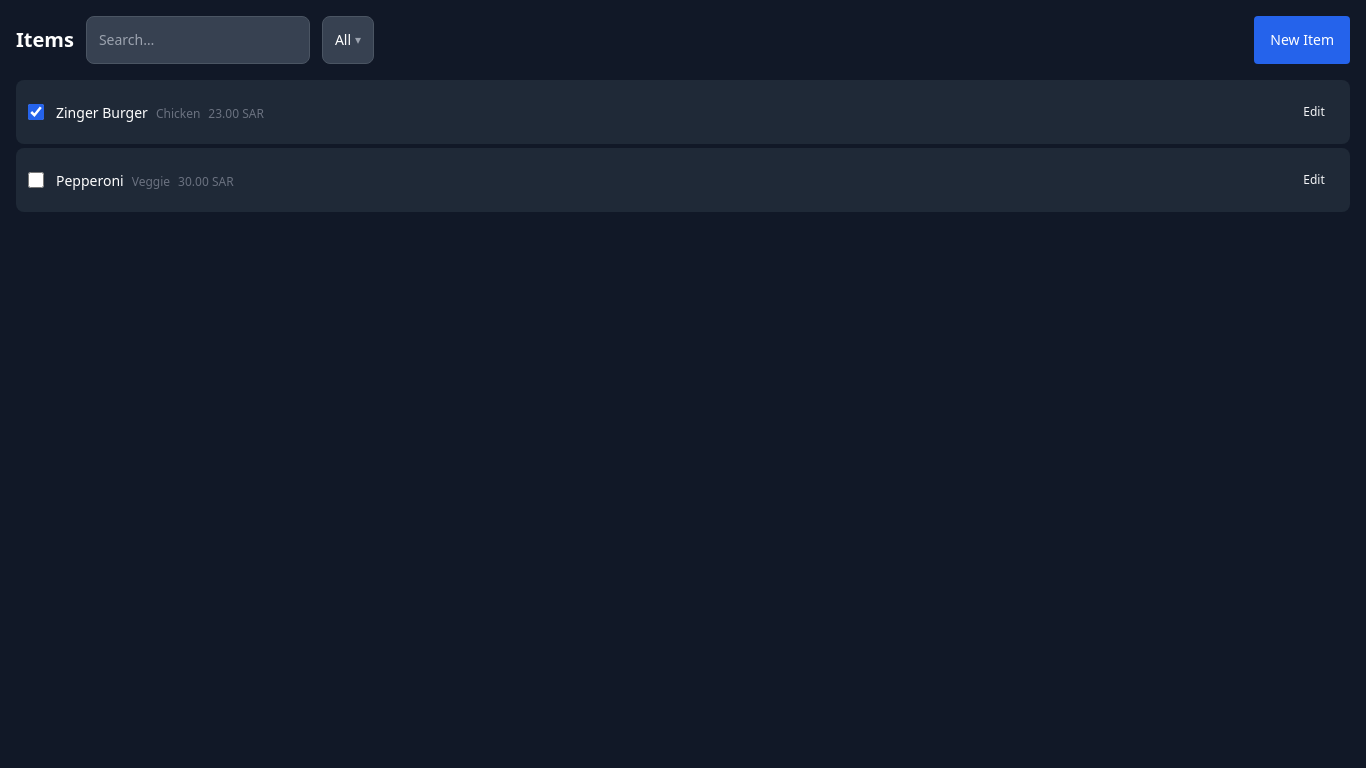
Scenario: ItemsPage › opens Edit Item from the row with fields populated and Active reflecting the item
Note: Whole row is the hit target.
Click the text "Zinger Burger".
click(102, 112)  # box [56, 103, 148, 122]
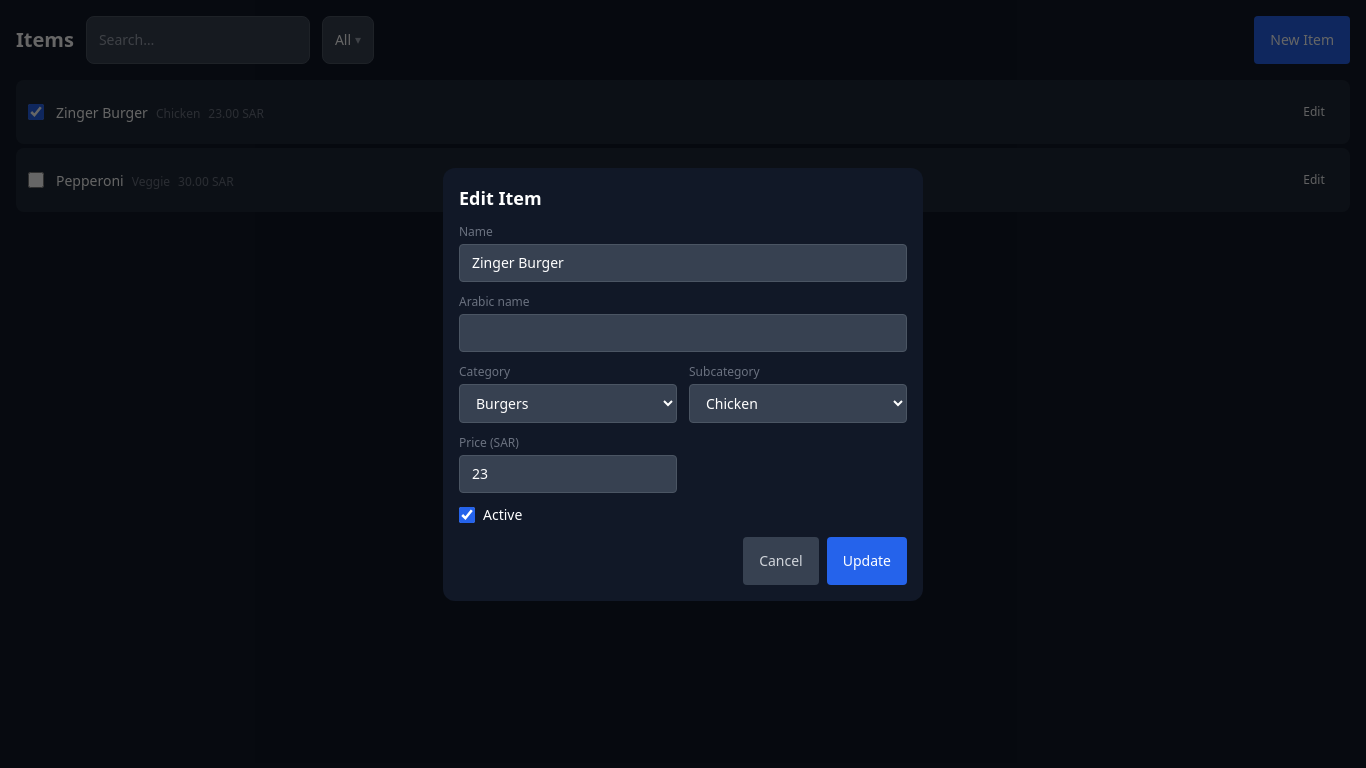
Check: the heading "Edit Item" is shown, box [459, 186, 542, 210]
Check: the field labelled "Name" holds "Zinger Burger", box [459, 244, 907, 282]
Check: the field labelled "Arabic name" is empty, box [459, 314, 907, 352]
